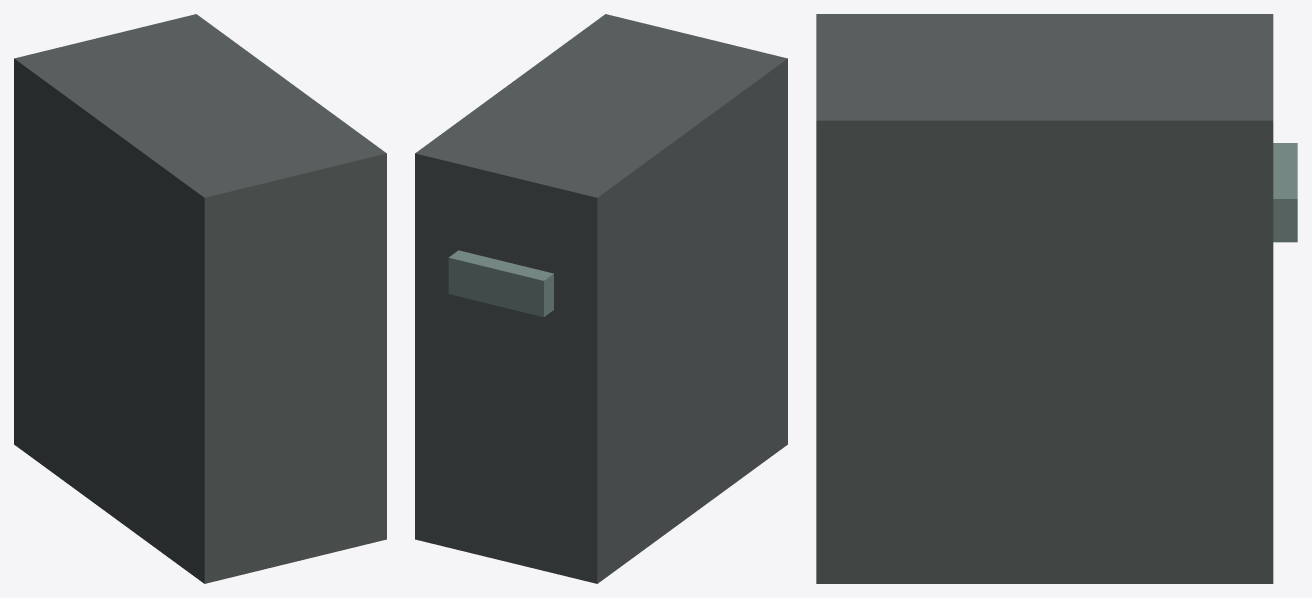
Rendered from computer_tower.glb.
The picture shows the model from 3 angles, left to right: view 1: azimuth 30°, elevation 25°; view 2: azimuth 150°, elevation 25°; view 3: azimuth 270°, elevation 25°; orthographic projection. The views are drawn at different scales.
Parts seen in each view (by area): view 1: case_0; view 2: case_0, vent_1; view 3: case_0, vent_1.
Part boxes in pixels (x1,y1,x2,y2): case_0: [14, 14, 386, 583]; case_0: [415, 14, 787, 583]; vent_1: [448, 250, 553, 316]; case_0: [816, 14, 1273, 583]; vent_1: [1273, 143, 1297, 242].
Size of the model in its own units: 0.42 by 0.85 by 0.8.
